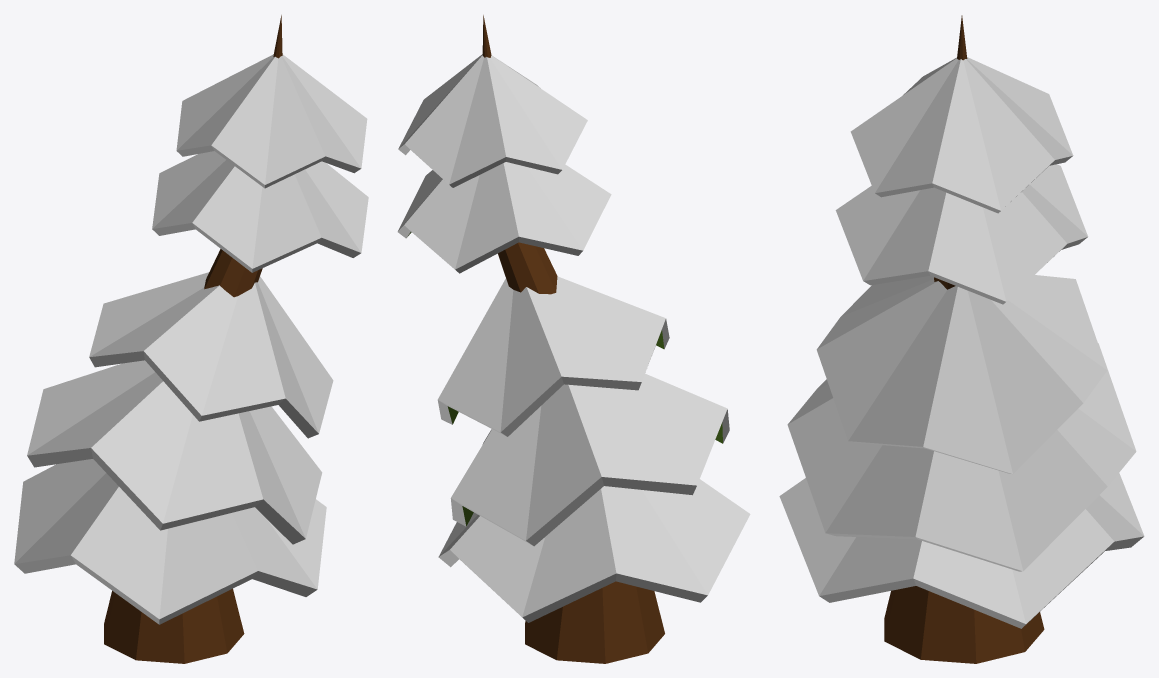
Rendered from Tree_06.fbx.
The picture shows the model from 3 angles, left to right: view 1: azimuth 30°, elevation 25°; view 2: azimuth 150°, elevation 25°; view 3: azimuth 270°, elevation 25°; orthographic projection. The views are drawn at different scales.
Visible parts, largest first — view 1: Tree_06; view 2: Tree_06; view 3: Tree_06.
Part boxes in pixels (box(x1,y1,x2,y2)): Tree_06: box(14, 15, 368, 663); Tree_06: box(397, 15, 750, 663); Tree_06: box(779, 15, 1144, 663).
Bounding box in the file's own units: 238 × 424 × 207.
